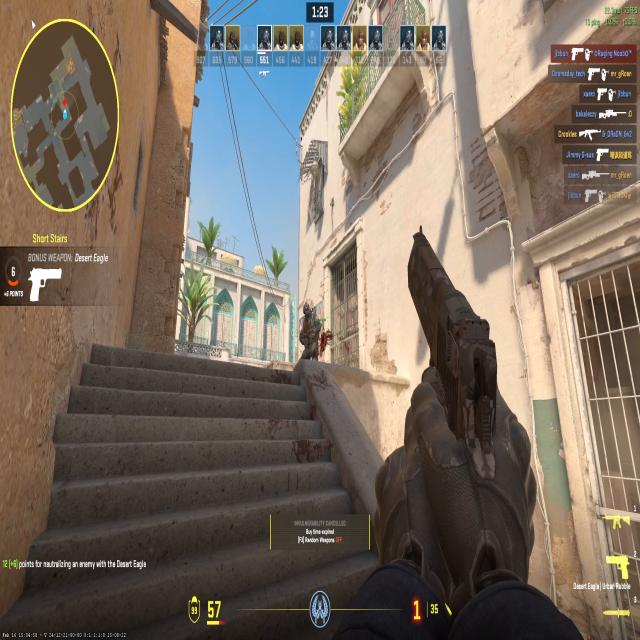player: (293, 295, 324, 369)
